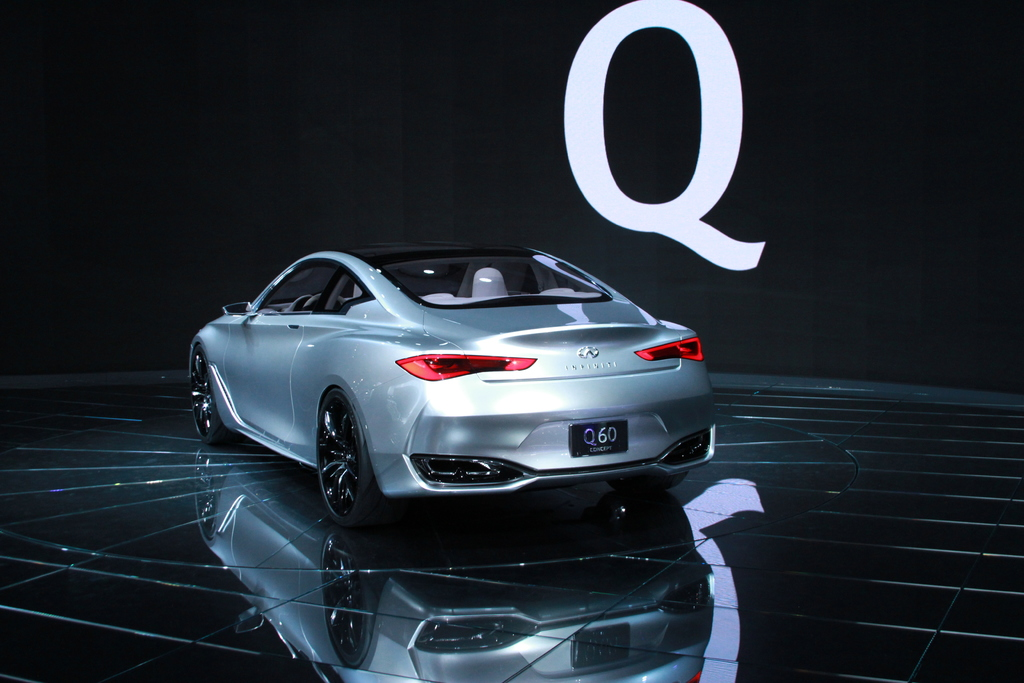mobil: (175, 235, 752, 538)
